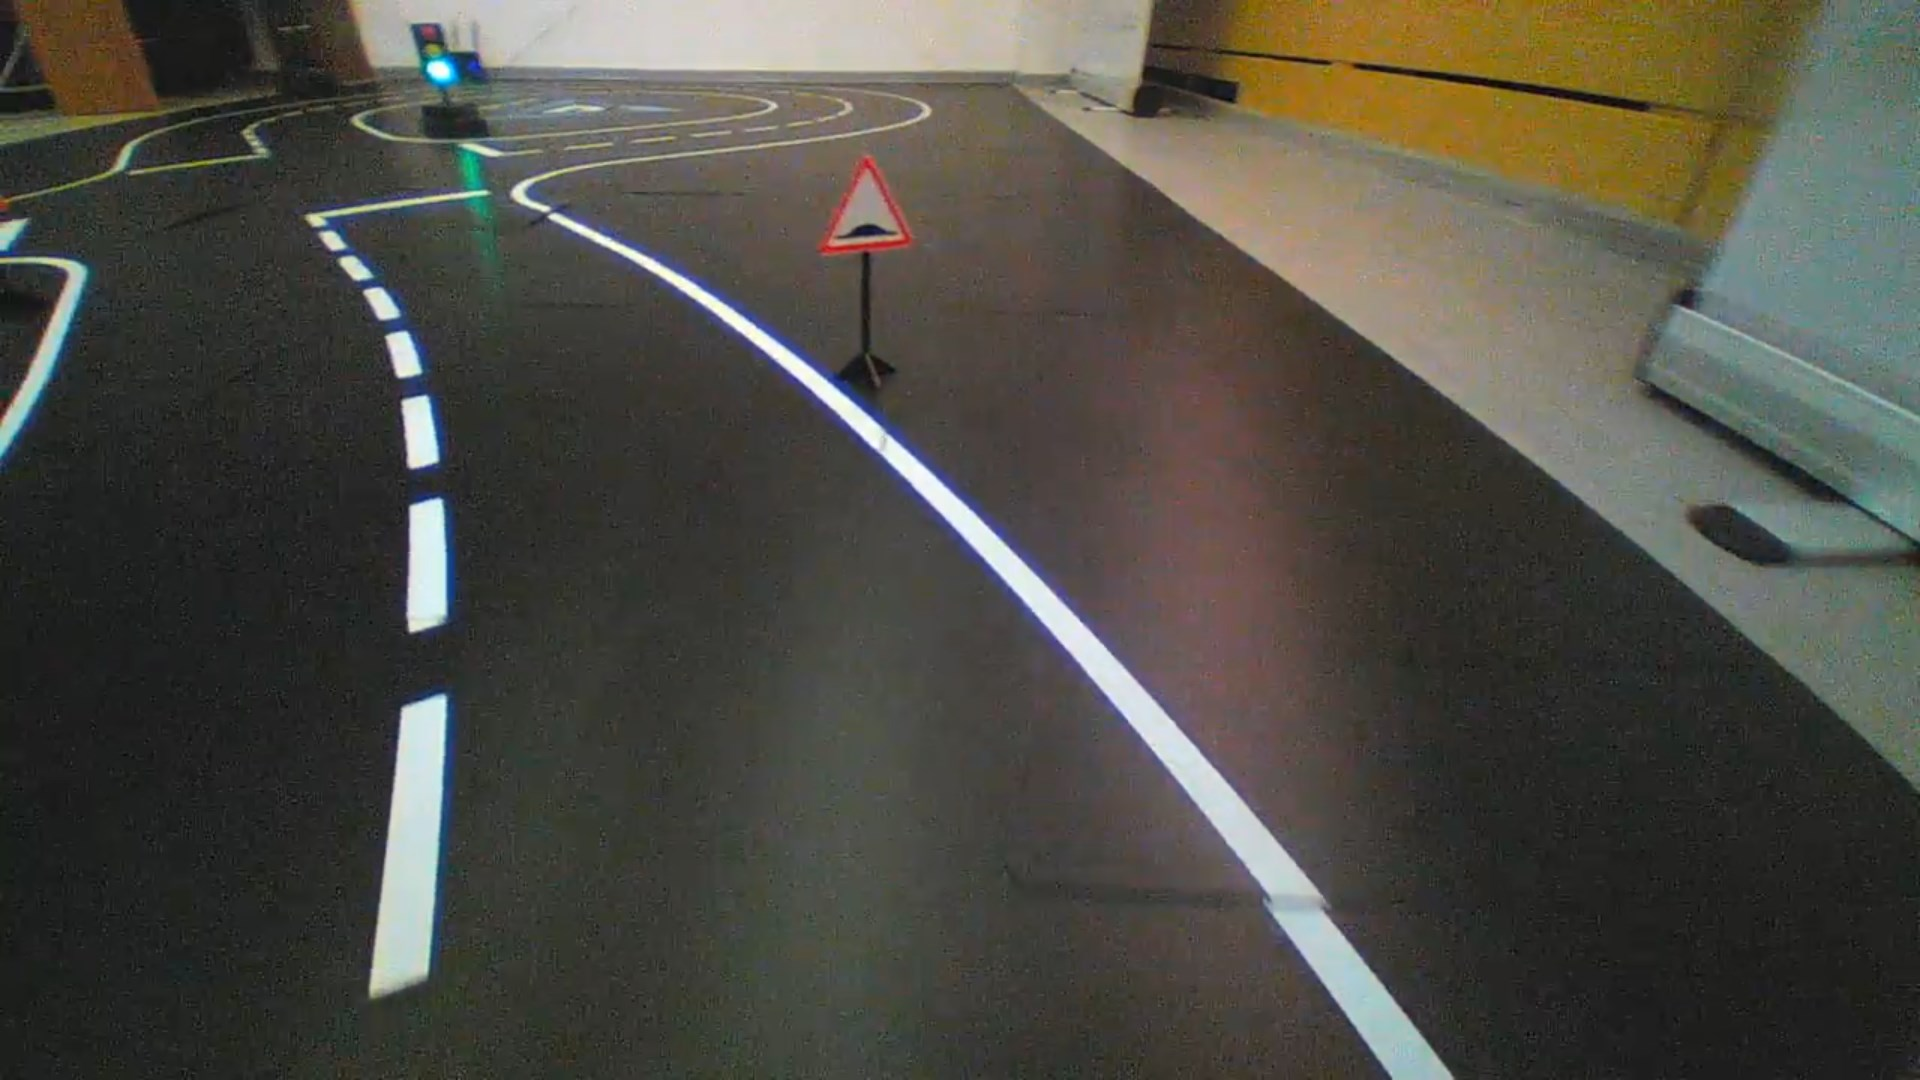trafficlight: (407, 22, 458, 84)
